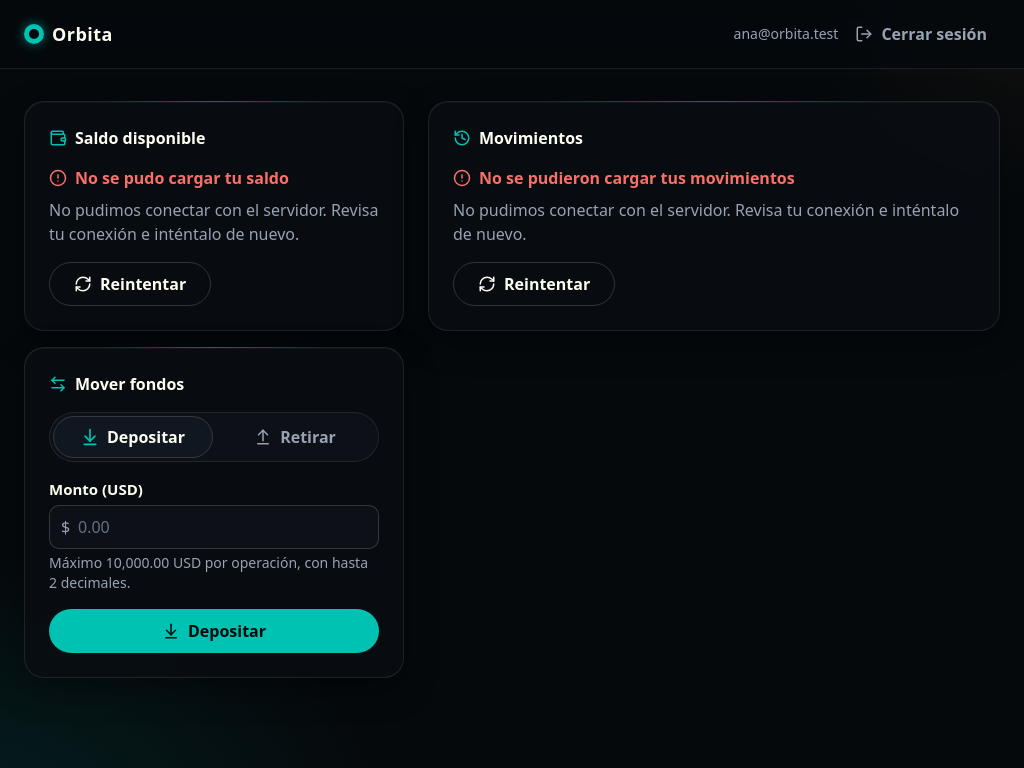
Test: balance screen states › shows an error state with retry when the API is down, instead of a blank screen
The image size is (1024, 768).
Expected: the text "No se pudo cargar tu saldo" is shown, [49, 166, 289, 190]
Expected: the text "No se pudieron cargar tus movimientos" is shown, [453, 166, 795, 190]
Click the button "Reintentar" below "No se pudo cargar tu saldo" at (130, 284), box [49, 262, 211, 306]
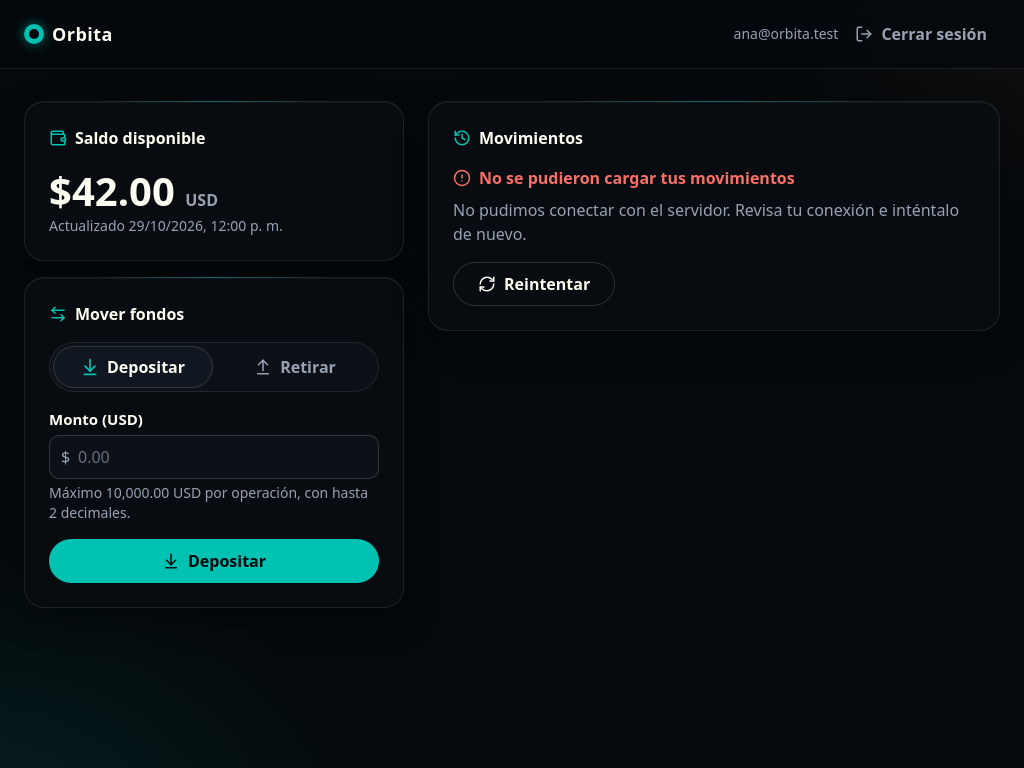
Click the button "Reintentar" at (534, 284), box [453, 262, 615, 306]
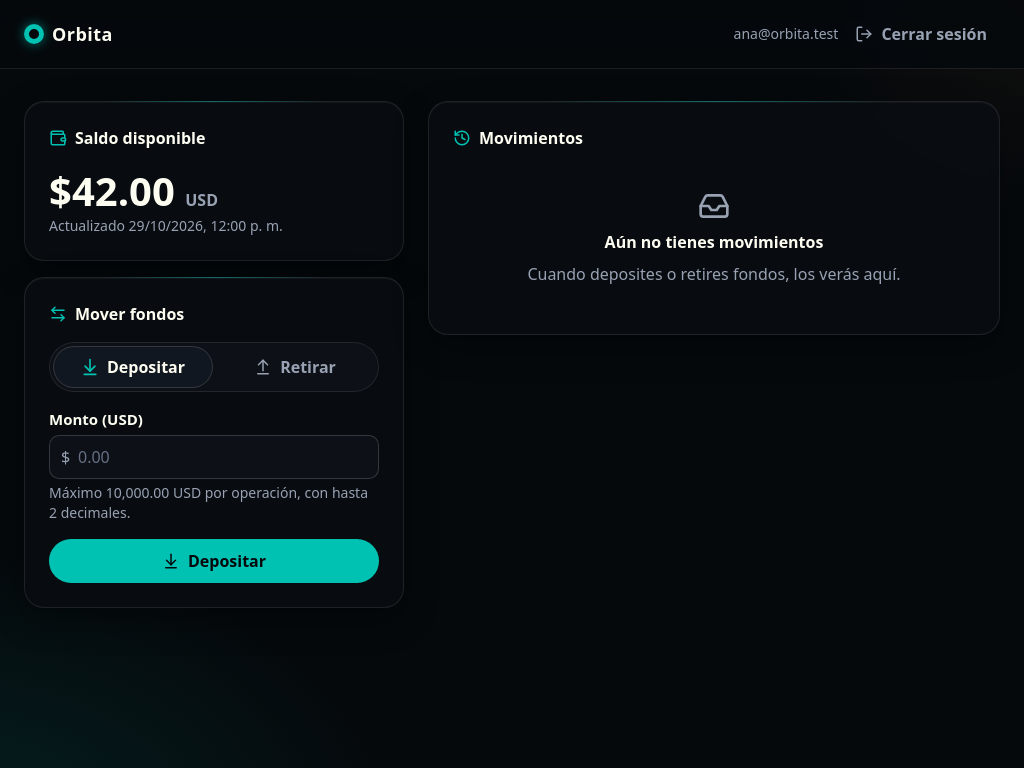
Result: the text "$42.00" is shown at [49, 163, 175, 218]
Result: the text "Aún no tienes movimientos" is shown at [605, 230, 823, 254]
